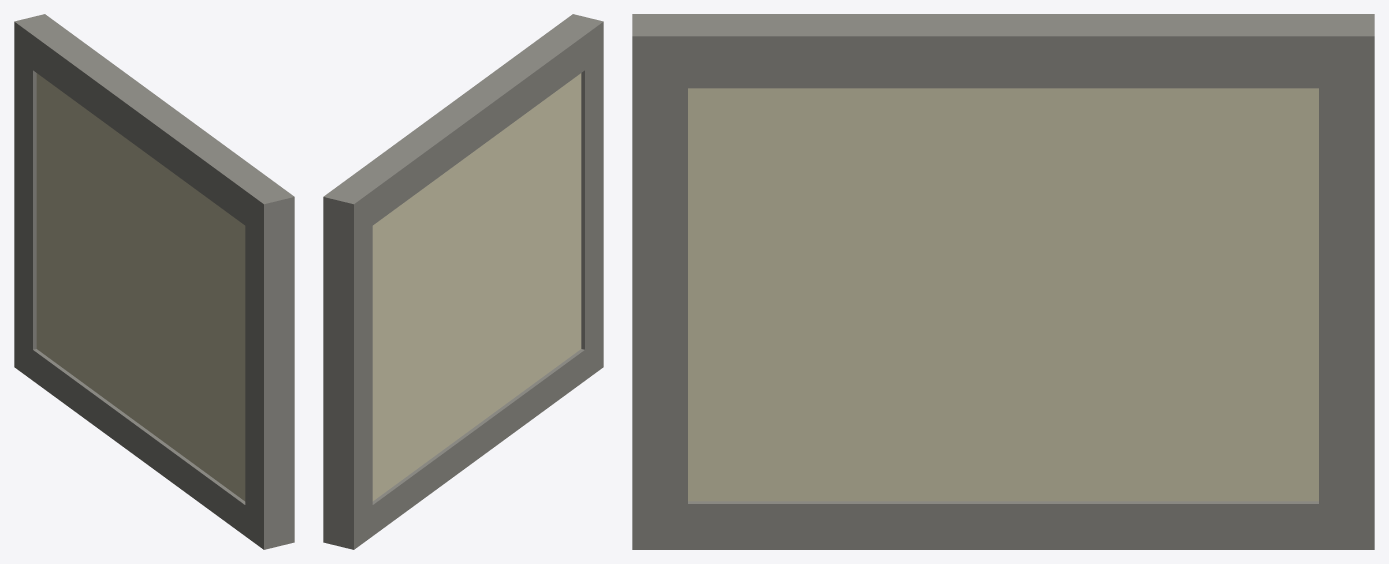
File: Wall01_house2.obj
The picture shows the model from 3 angles, left to right: view 1: azimuth 30°, elevation 25°; view 2: azimuth 150°, elevation 25°; view 3: azimuth 270°, elevation 25°; orthographic projection. The views are drawn at different scales.
Parts seen in each view (by area): view 1: Wall01_house02_Cube.004; view 2: Wall01_house02_Cube.004; view 3: Wall01_house02_Cube.004.
Part boxes in pixels (x1,y1,x2,y2): Wall01_house02_Cube.004: (14, 14, 294, 549); Wall01_house02_Cube.004: (323, 14, 603, 549); Wall01_house02_Cube.004: (632, 14, 1374, 549).
Bounding box in the file's own units: 0.3417 × 3.67 × 4.81.
